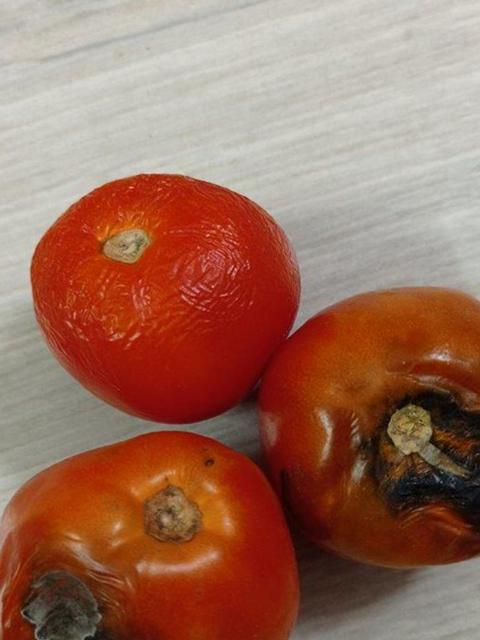defect: (19, 157, 305, 423)
